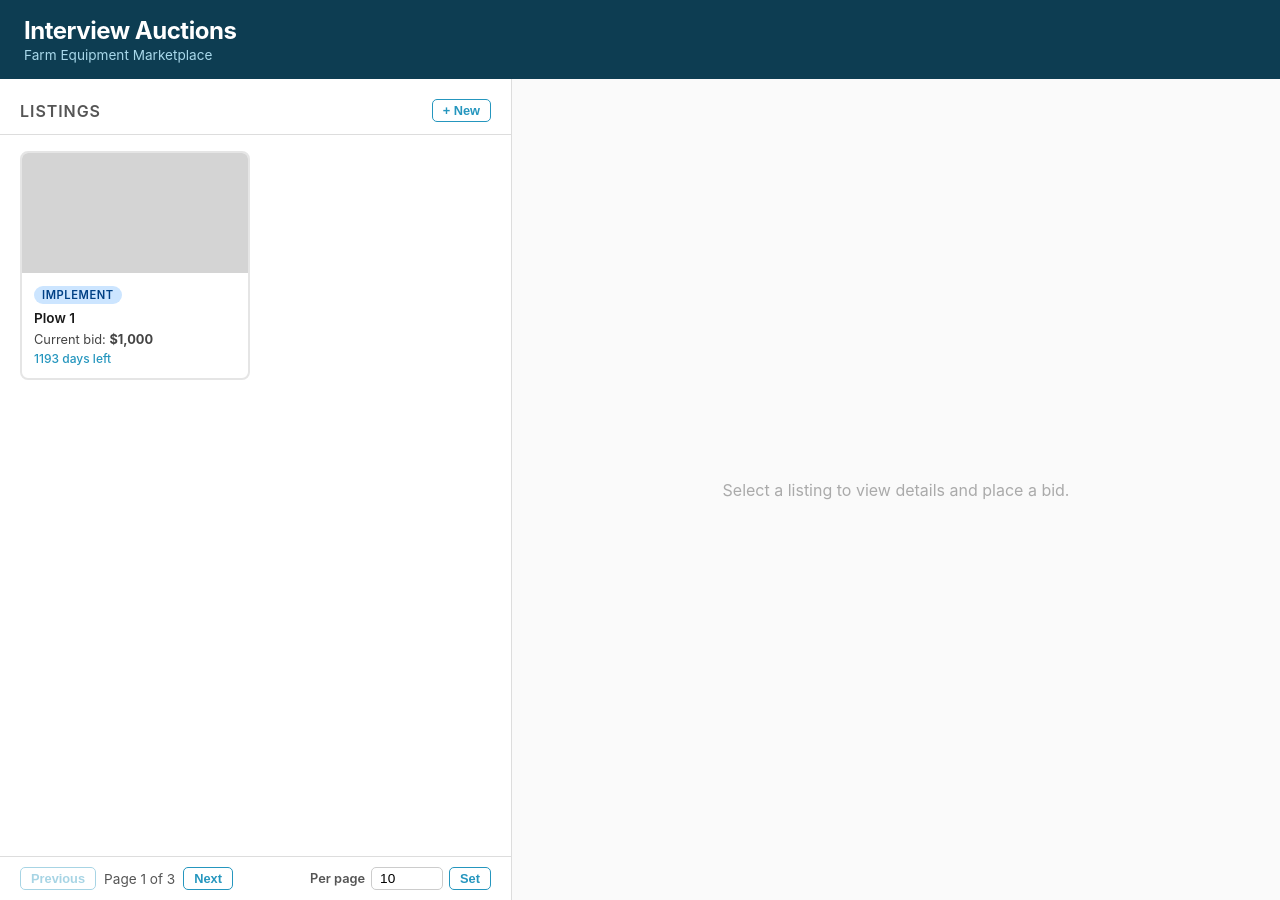
Test: App › loads the next page when Next is clicked
The image size is (1280, 900).
Click the button "Next" at (208,878), box [183, 867, 233, 890]
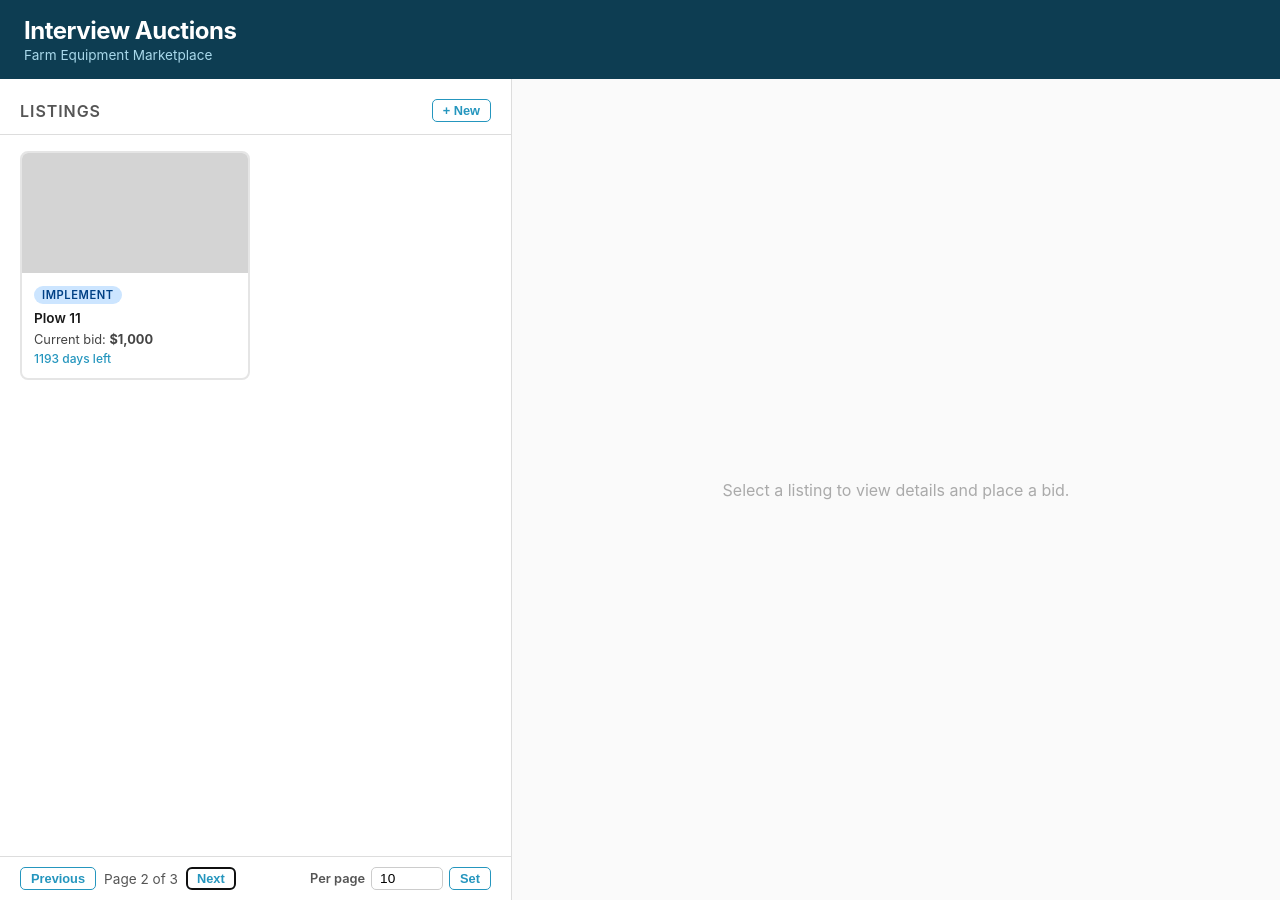
Expected: the heading "Plow 11" is shown, [34, 310, 81, 326]
Expected: the text "Page 2 of 3" is shown, [104, 870, 178, 886]
